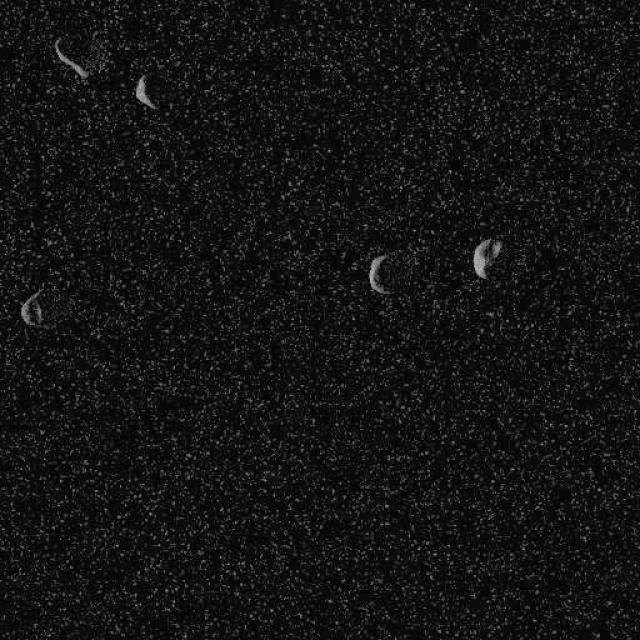D2: (52, 36, 90, 80), (472, 236, 502, 280), (18, 286, 48, 329), (367, 254, 392, 295), (134, 74, 156, 110)
